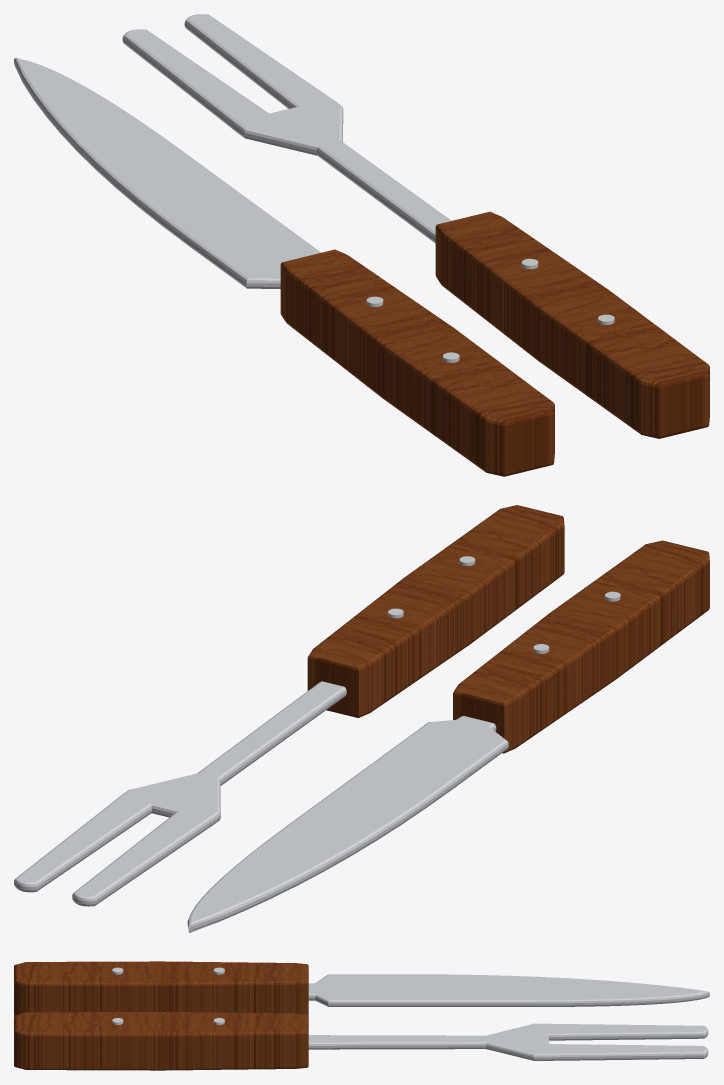
Rendered from CUB-33.glb.
The picture shows the model from 3 angles, top to bottom: view 1: azimuth 30°, elevation 25°; view 2: azimuth 150°, elevation 25°; view 3: azimuth 270°, elevation 25°; orthographic projection. The views are drawn at different scales.
Size of the model in its own units: 0.0756 by 0.017 by 0.2722.
8 materials, 2 textured.
